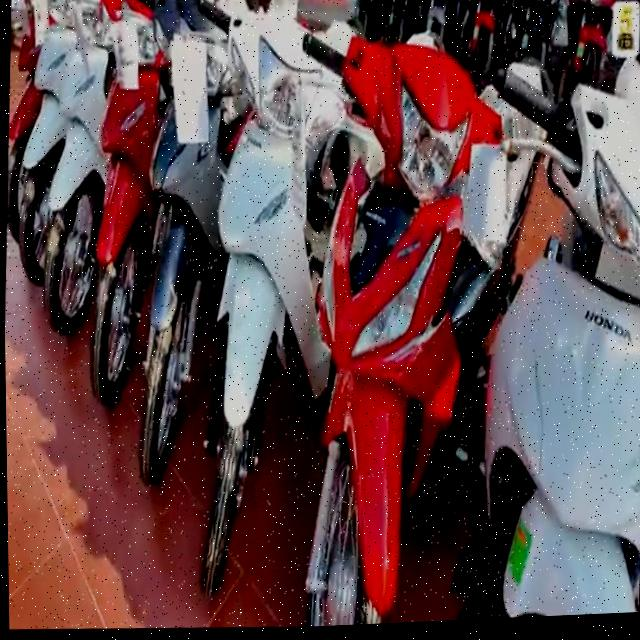motorcycle: (291, 19, 490, 627), (176, 0, 328, 608), (478, 62, 640, 619), (122, 0, 244, 492), (72, 0, 148, 405)
